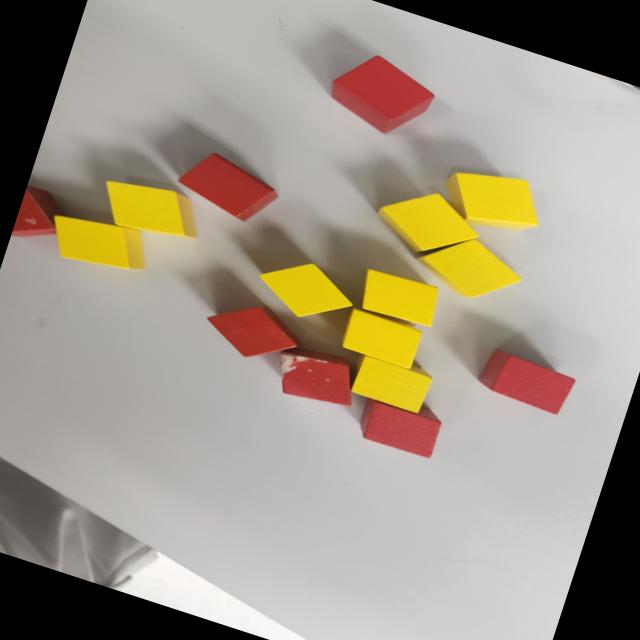broken: (270, 340, 365, 414), (11, 181, 71, 249)
red: (320, 42, 444, 146), (170, 144, 288, 232), (197, 288, 308, 374), (473, 346, 578, 418), (354, 395, 445, 461)
yellow: (370, 177, 492, 273), (407, 222, 529, 314), (434, 158, 550, 248), (92, 170, 212, 252), (40, 203, 158, 283), (252, 250, 360, 334), (357, 266, 444, 332), (339, 306, 425, 371), (349, 354, 434, 416)
